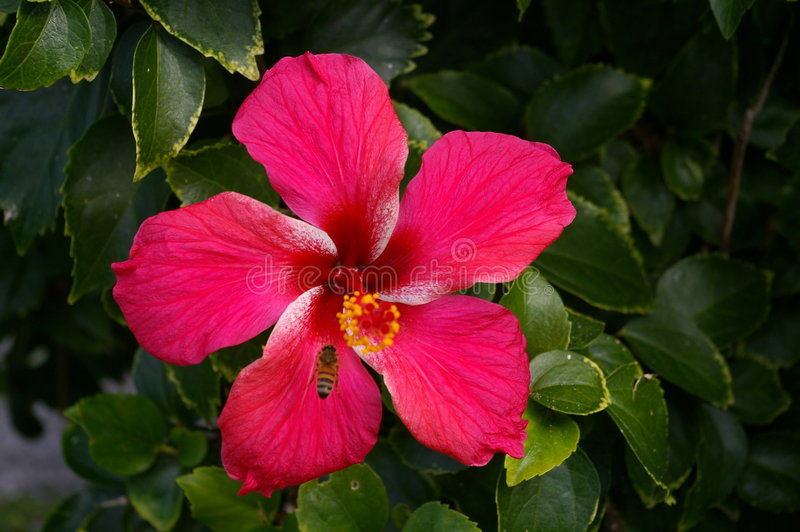Hibiscus: (131, 61, 586, 491)
